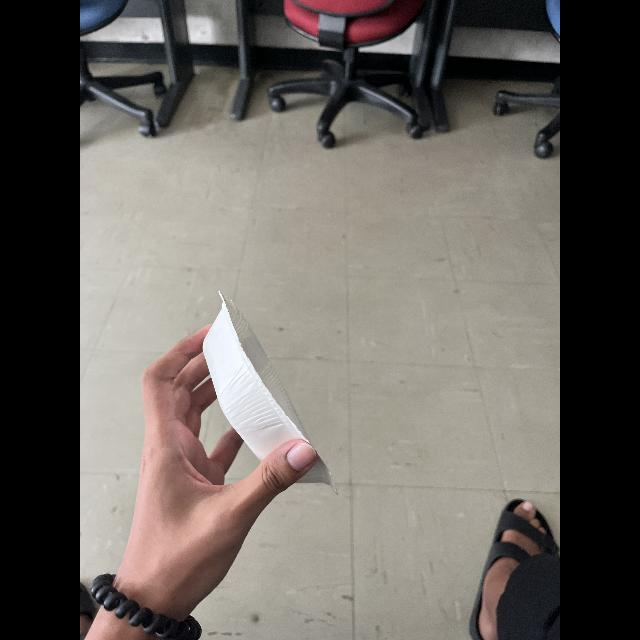cardboard_bowl: (200, 285, 330, 489)
